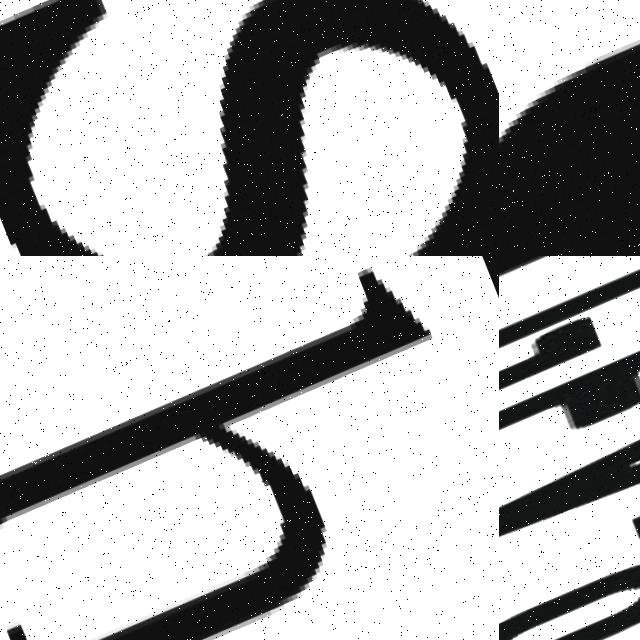0: (499, 0, 640, 256)
8: (499, 448, 640, 640)
E: (499, 263, 640, 524)
G: (499, 256, 640, 459)
H: (0, 273, 434, 640)
N: (499, 524, 640, 640)
S: (0, 0, 499, 256)
V: (499, 331, 640, 610)
